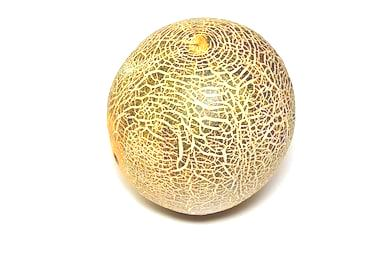Melon Ripe: (105, 17, 296, 218)
